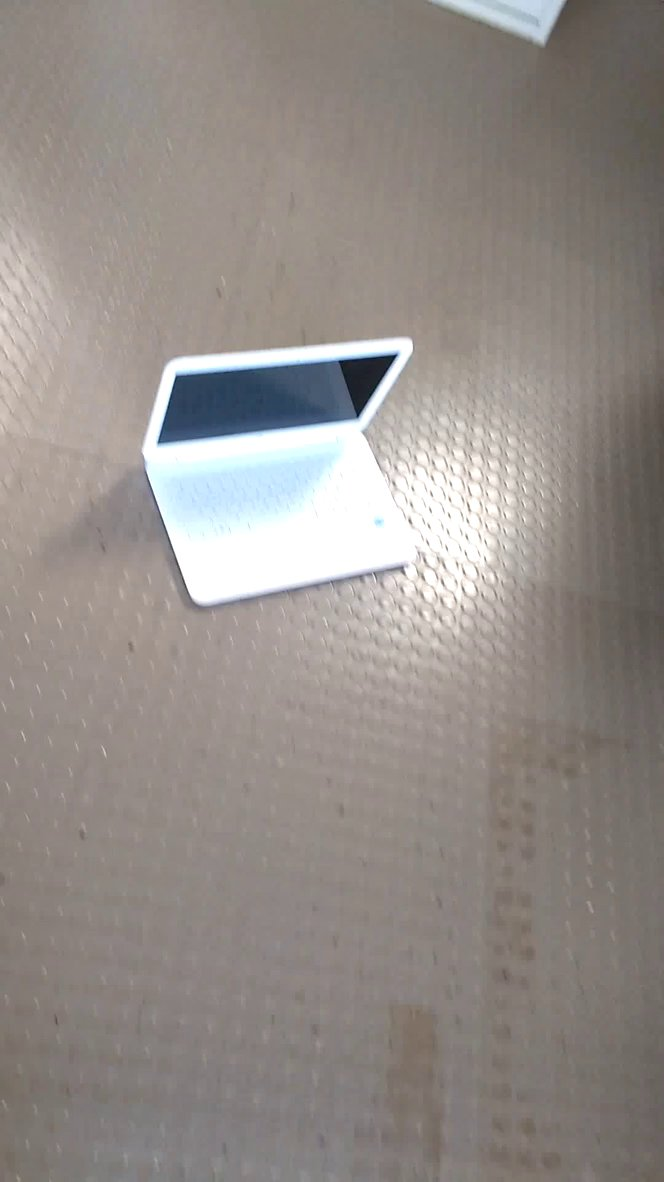laptop: (134, 324, 425, 618)
